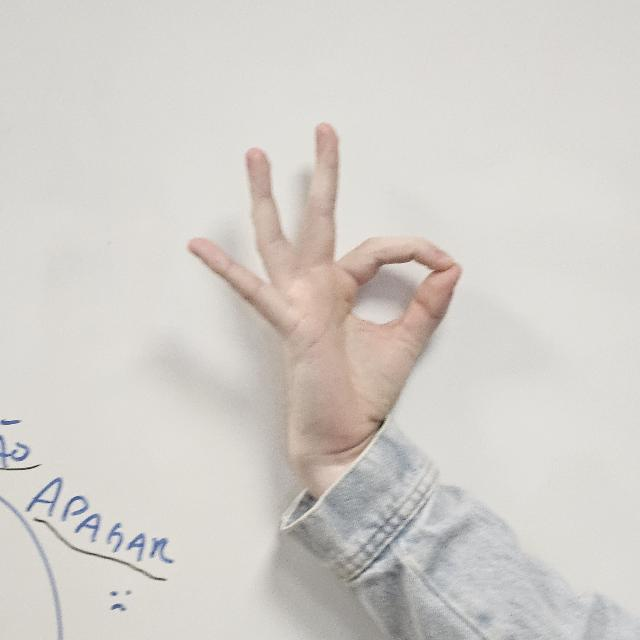Bolinha: (188, 113, 467, 481)
